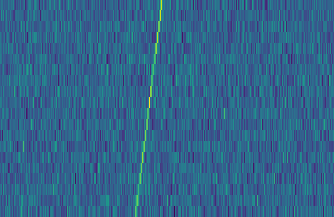signal: (131, 0, 167, 217)
